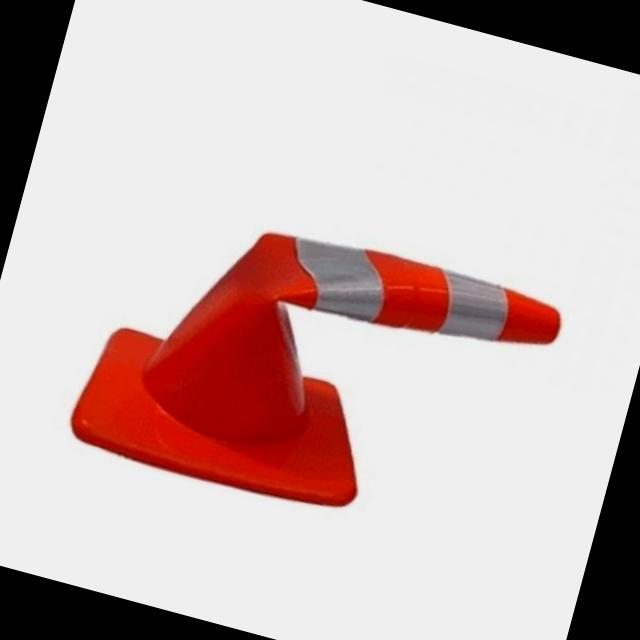cone: (60, 146, 612, 561)
